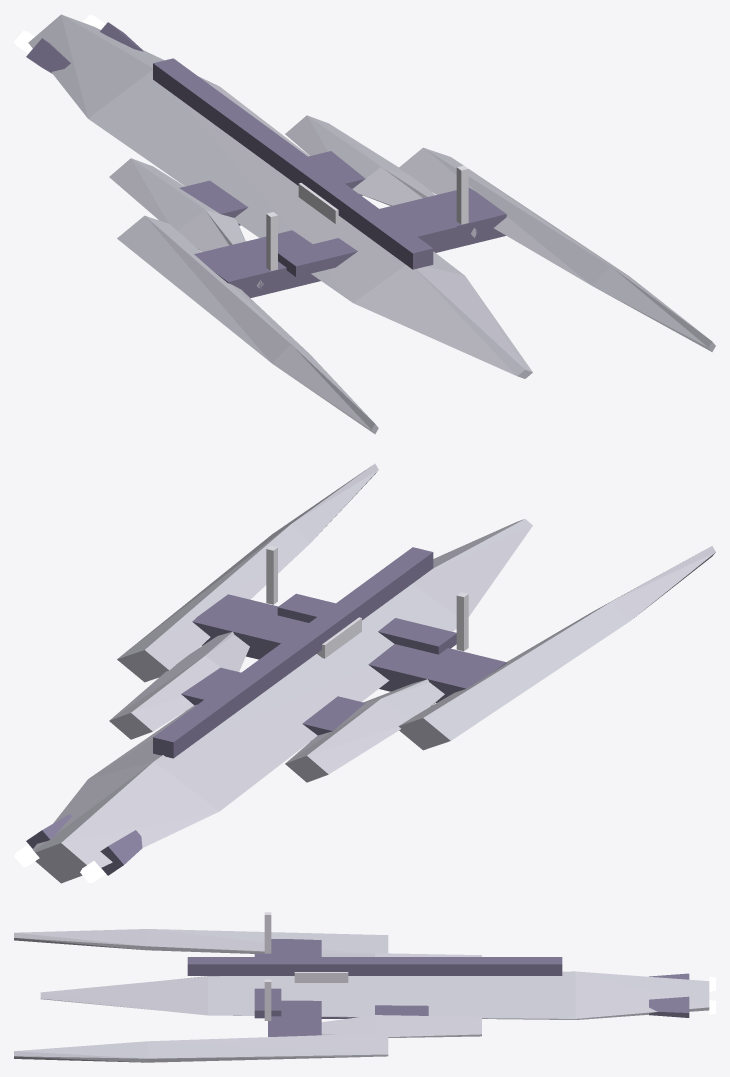
3 views of the same model, one above another, from view 1: azimuth 30°, elevation 25°; view 2: azimuth 150°, elevation 25°; view 3: azimuth 270°, elevation 25° (orthographic). The views are drawn at different scales.
Size of the model in its own units: 4.54 by 1.23 by 10.71.
